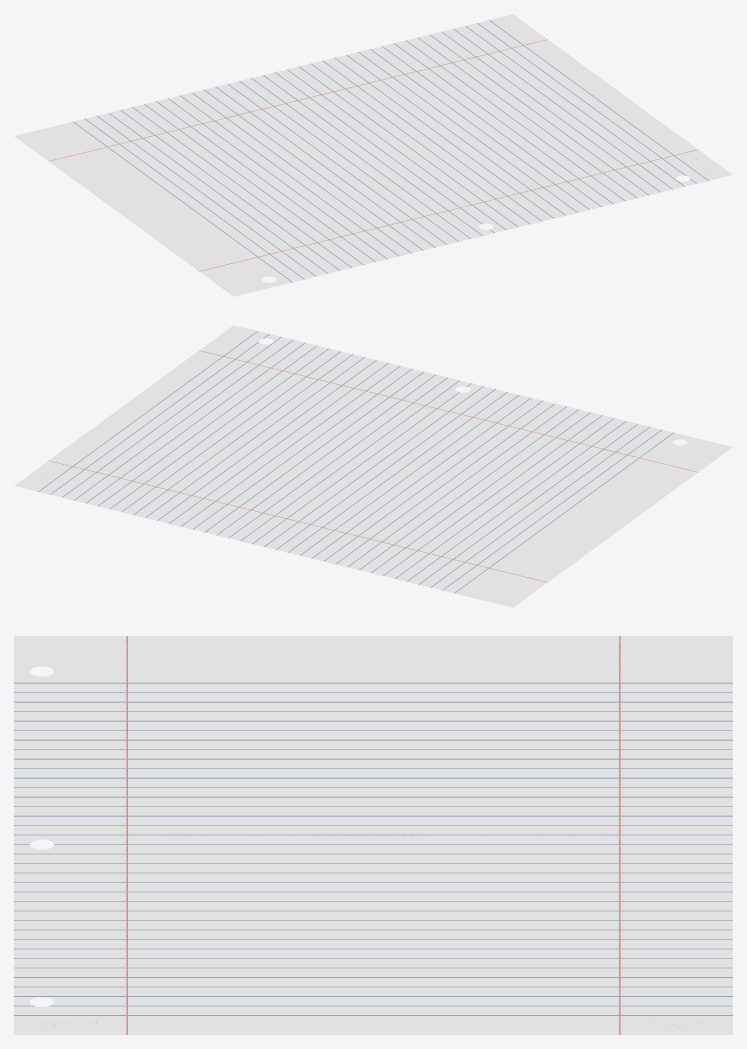
File: paper_lined.fbx
3 views of the same model, one above another, from view 1: azimuth 30°, elevation 25°; view 2: azimuth 150°, elevation 25°; view 3: azimuth 270°, elevation 25° (orthographic). The views are drawn at different scales.
Visible parts, largest first — view 1: SketchUp2; view 2: SketchUp2; view 3: SketchUp2.
Part boxes in pixels (left/top/right/bottom): SketchUp2: left=14, top=14, right=732, bottom=296; SketchUp2: left=14, top=325, right=732, bottom=607; SketchUp2: left=14, top=636, right=732, bottom=1034.
Size of the model in its own units: 26.67 by 5.67e-08 by 20.32.
